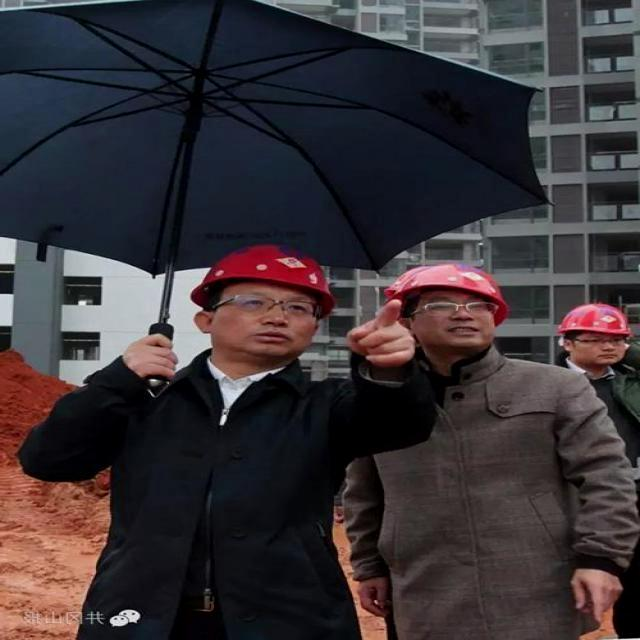face_nomask: (227, 296, 313, 352), (424, 296, 496, 342), (581, 334, 632, 364)
glasses: (229, 291, 320, 322), (419, 299, 502, 321), (575, 331, 627, 348)
hand_noglove: (342, 296, 424, 374), (565, 564, 624, 625), (122, 333, 184, 384)
head_helmet: (192, 235, 335, 306), (379, 261, 508, 308), (555, 300, 634, 338)
person: (56, 248, 363, 640), (342, 255, 591, 640)
